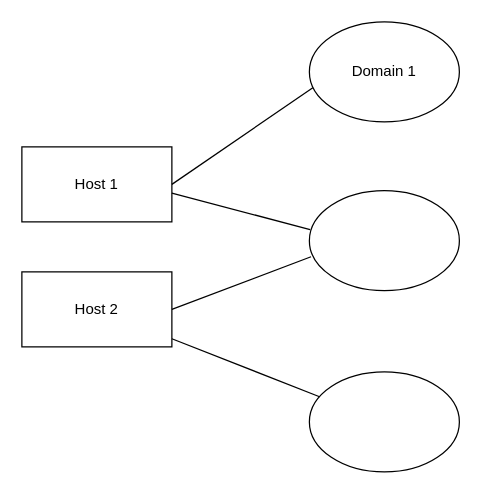
Some shapes in this 481 by 494 pixel diagram are drawn without their labels. Here are the shapes that lost their labels. From the top down, the box of each, then its label:
(308, 189, 459, 291): Domain 2
(308, 371, 459, 472): Domain 3
